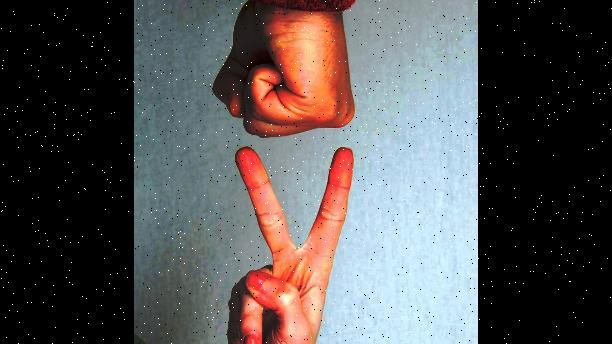Rock: (208, 0, 367, 140)
Scissors: (226, 145, 364, 344)
